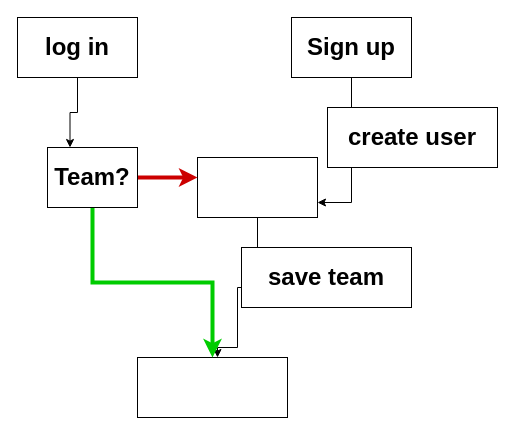
The diagram is 515 pixels wide and 435 high, and some of its shapes have lost their labels. The centre of each missing label's shape, as x and y in pixels:
Choose Team: (x=257, y=187)
HOME (protected): (x=212, y=387)
